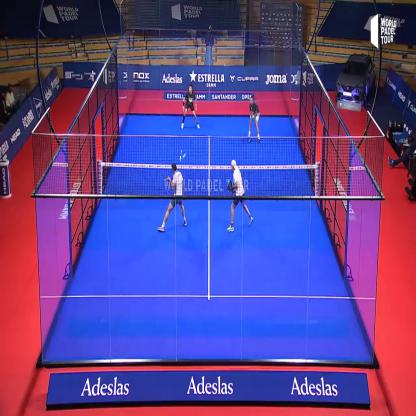ball: (181, 150, 188, 162)
